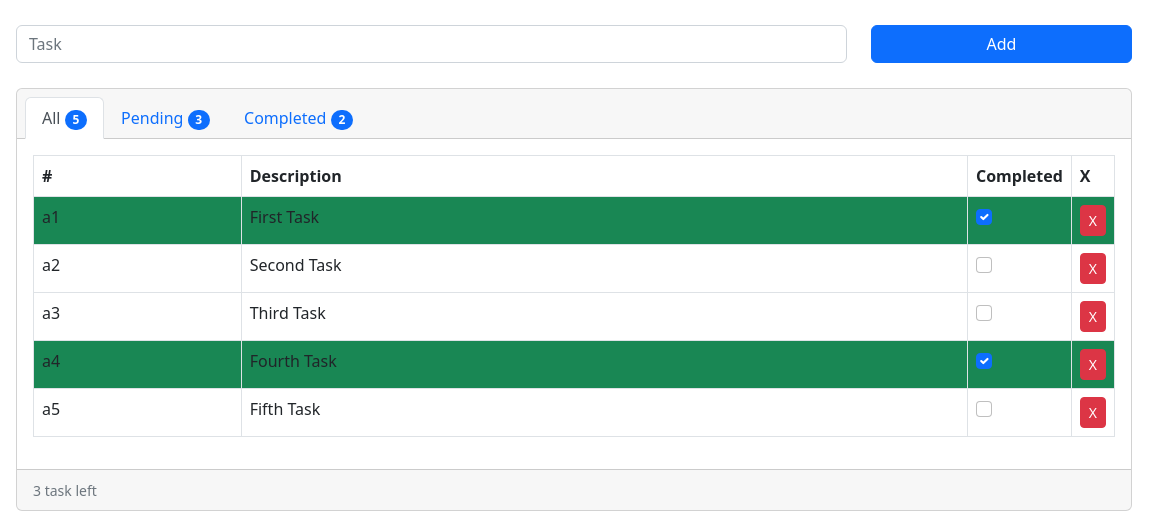
Test: Todo Component › Mark Task Complete
The width and height of the screenshot is (1149, 528).
# simulate: click on check
Click the checkbox in the row of "a3" at coordinates (984, 313), box [976, 305, 992, 321]
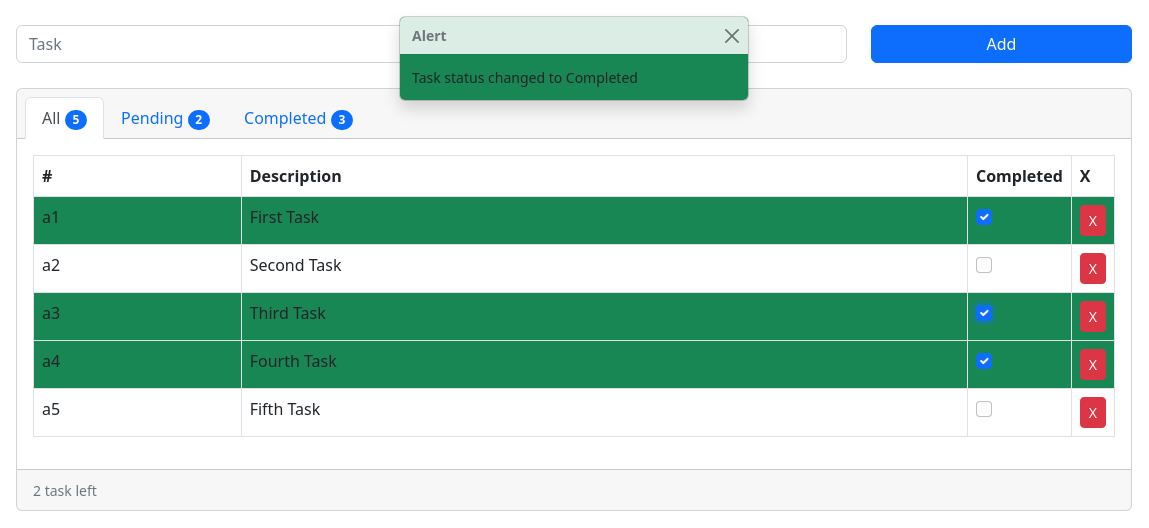
Result: the message "Alert Task status changed to Completed" is shown at [399, 16, 749, 101]
Result: the text with test id "toaster-body" reads "Task status changed to Completed" at [412, 68, 638, 87]
